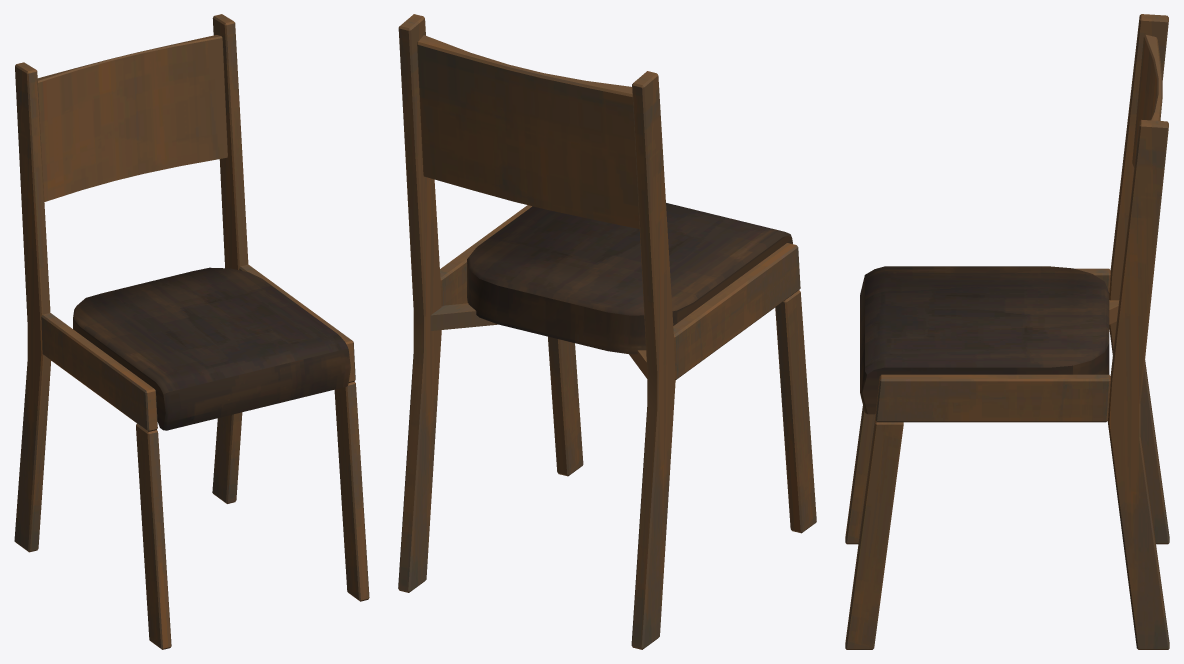
File: Silla_H1.obj
3 views of the same model, side by side, from view 1: azimuth 30°, elevation 25°; view 2: azimuth 150°, elevation 25°; view 3: azimuth 270°, elevation 25° (orthographic). The views are drawn at different scales.
Visible parts, largest first — view 1: Silla_H1; view 2: Silla_H1; view 3: Silla_H1.
Part boxes in pixels (x1=…): Silla_H1: x1=14, y1=14, x2=369, y2=649; Silla_H1: x1=398, y1=14, x2=816, y2=649; Silla_H1: x1=845, y1=14, x2=1169, y2=649.
Bounding box in the file's own units: 0.2972 × 0.654 × 0.3658.
Materials: 1 (1 with a texture image).
